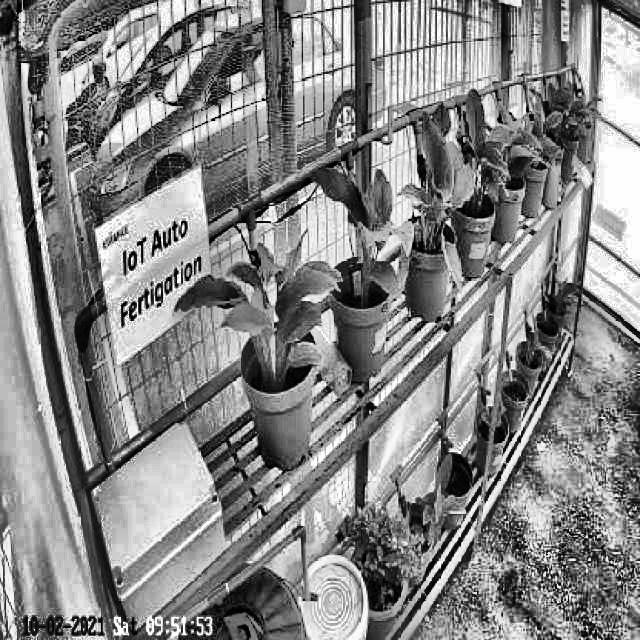plants: (174, 218, 340, 371), (312, 154, 414, 292), (398, 117, 464, 291), (443, 92, 509, 216)
